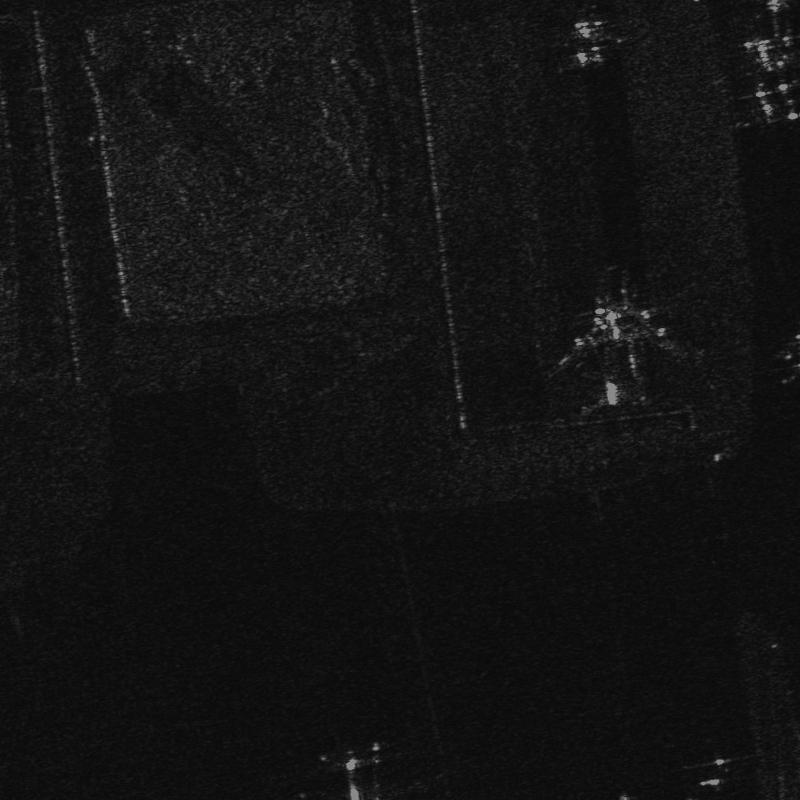A220: (550, 5, 629, 73)
other: (534, 283, 692, 416)
